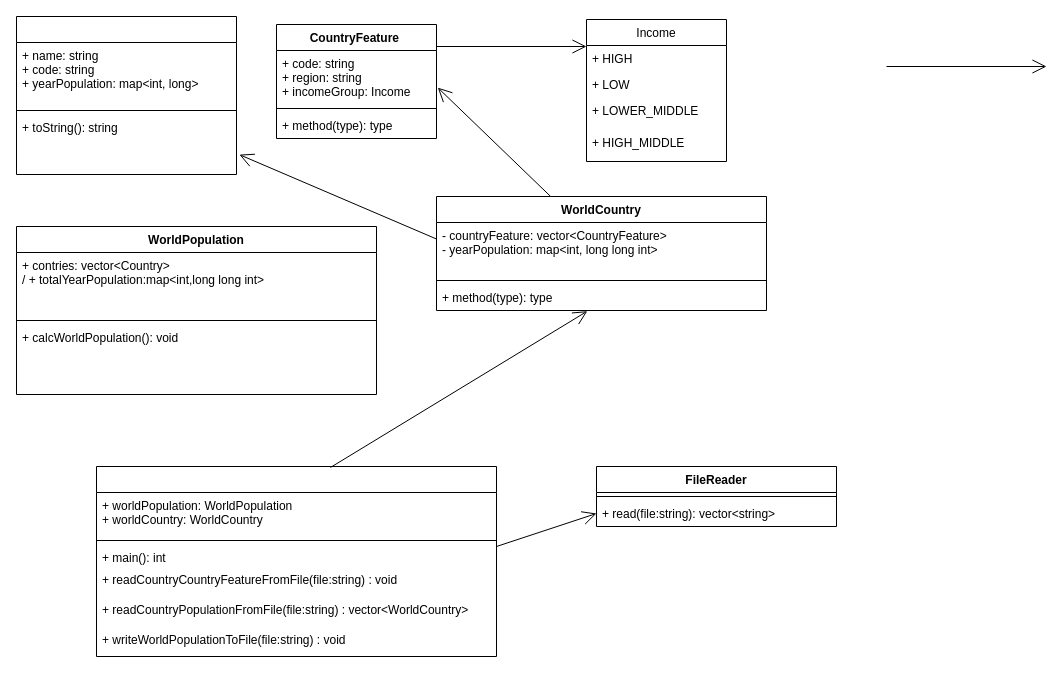
Image size: 1062x673. Some labels were removed from this diagram. The box of each missing label's shape, as (x1, y1, x2, y2) in pixels:
Country: (16, 16, 236, 174)
Program: (96, 466, 496, 656)
